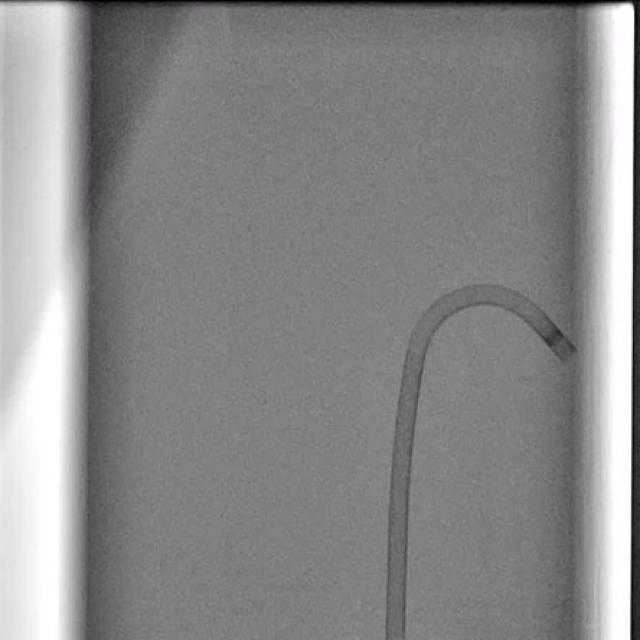bend: (404, 343, 429, 361)
entry: (385, 634, 405, 640)
marker: (544, 328, 564, 347)
tip: (562, 348, 578, 364)
